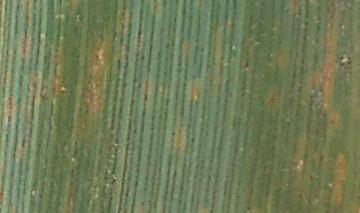tarspot: (244, 62, 249, 70), (347, 57, 351, 64), (340, 63, 344, 67), (340, 56, 343, 60)
